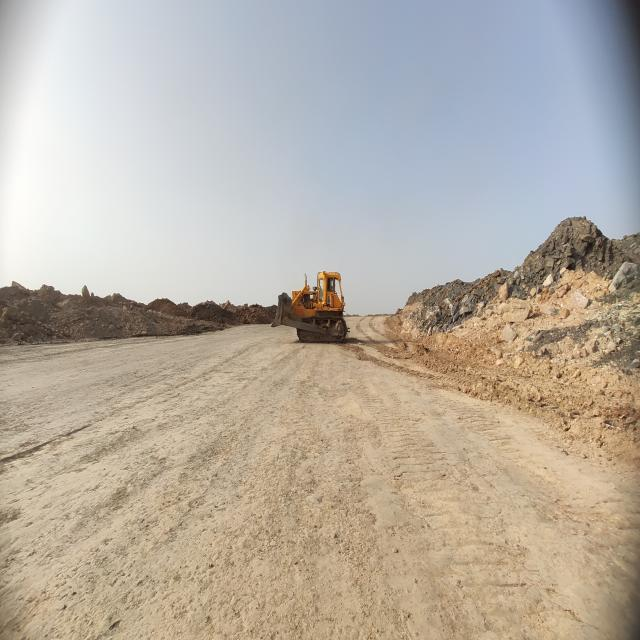buldozerpayloadergrader: (272, 271, 348, 342)
